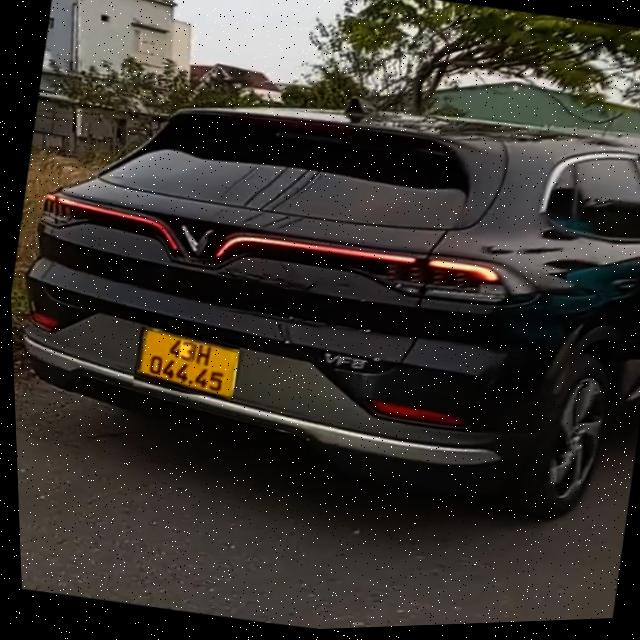car: (2, 35, 640, 558)
plate: (125, 319, 250, 409)
